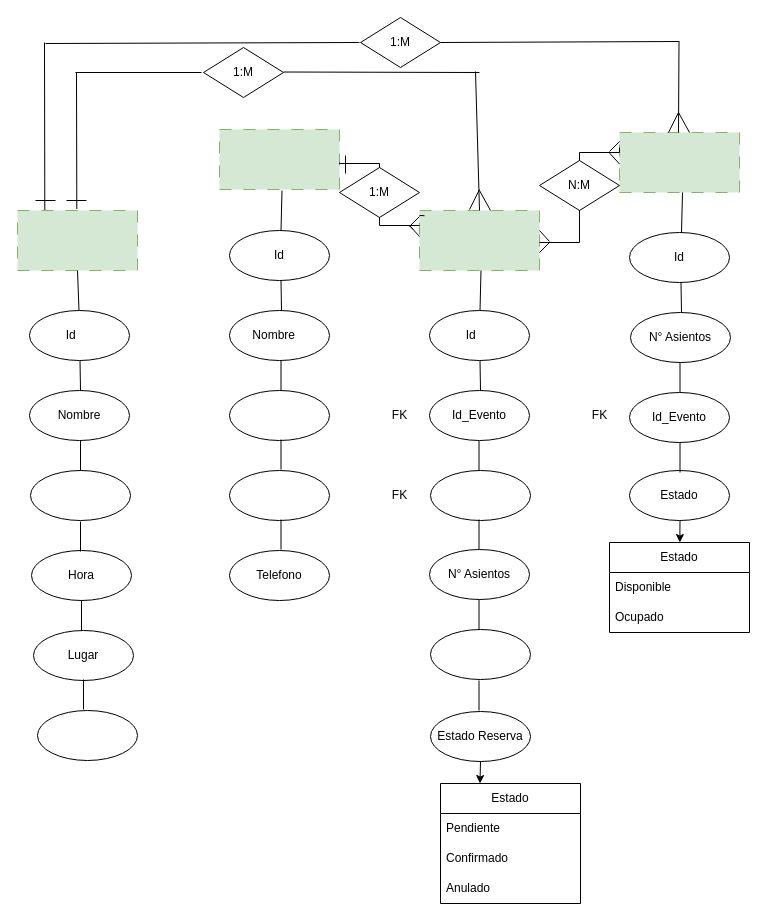
Image size: 767x921. Some labels were removed from this diagram. The shapes that lost their labels are listed below. From the top down, each one's centre as x and y in pixels, then its label:
point (279, 159): Cliente
point (679, 162): Asiento
point (77, 240): Evento
point (479, 240): Reserva
point (279, 415): Apellido
point (80, 495): Fecha
point (279, 495): Email
point (480, 495): Id_Cliente
point (480, 654): Fecha Reserva
point (87, 735): Tematica
